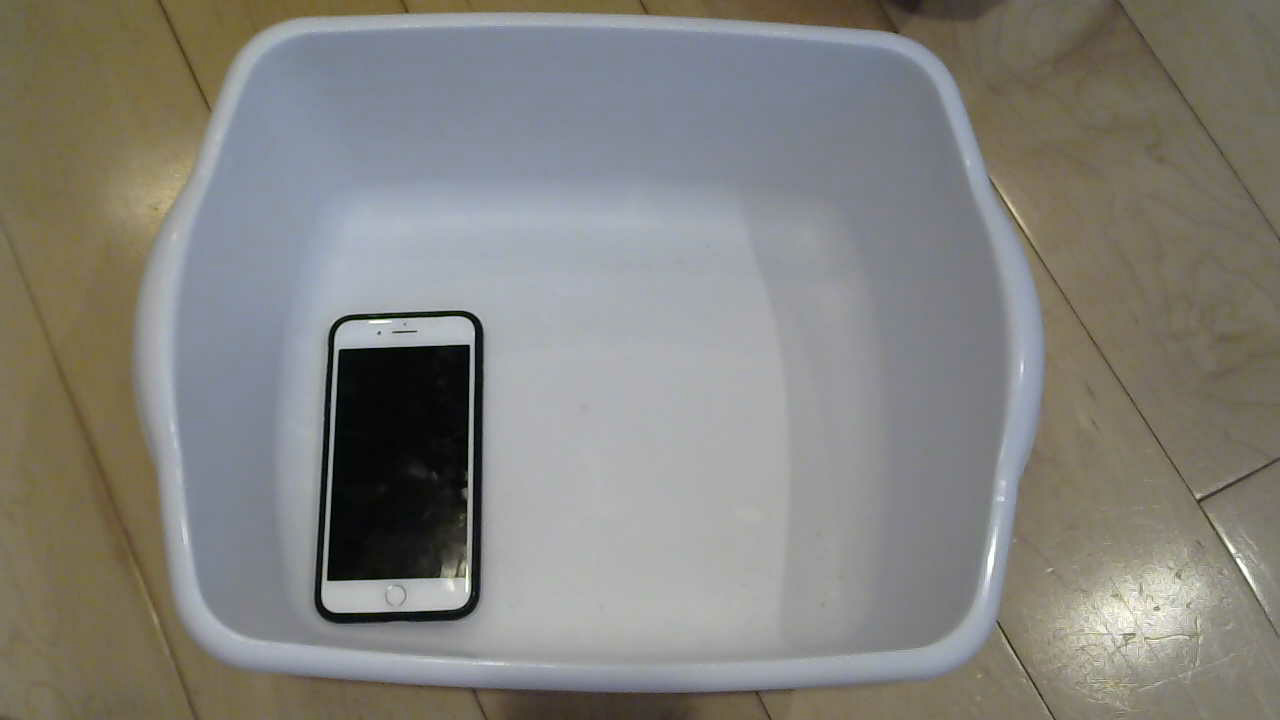phone: (307, 301, 514, 634)
